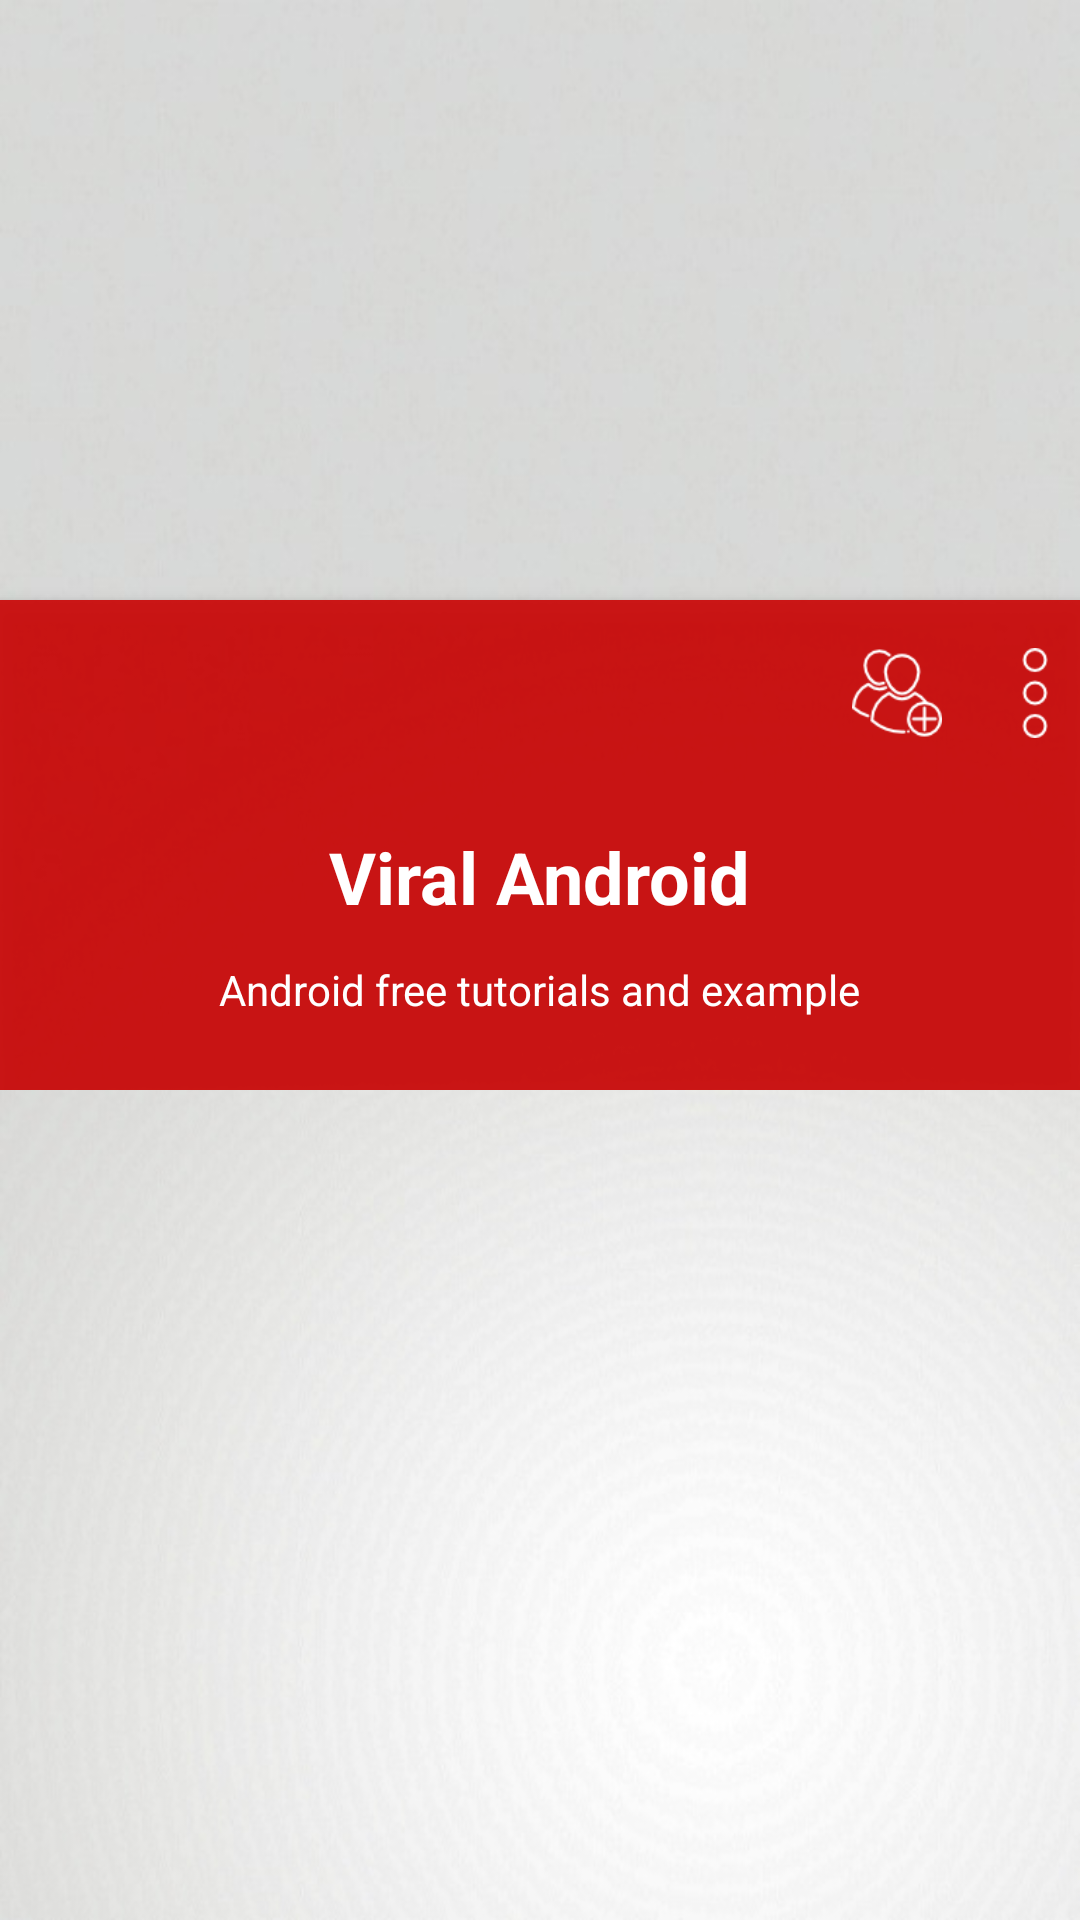

Icon bounding boxes for this 1080w x 1920h phone screenshot, format (x1, y1, x2, y2):
overflow: (1022, 648, 1048, 738)
user add: (852, 649, 942, 737)
